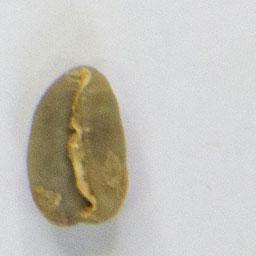longberry: (23, 61, 132, 229)
